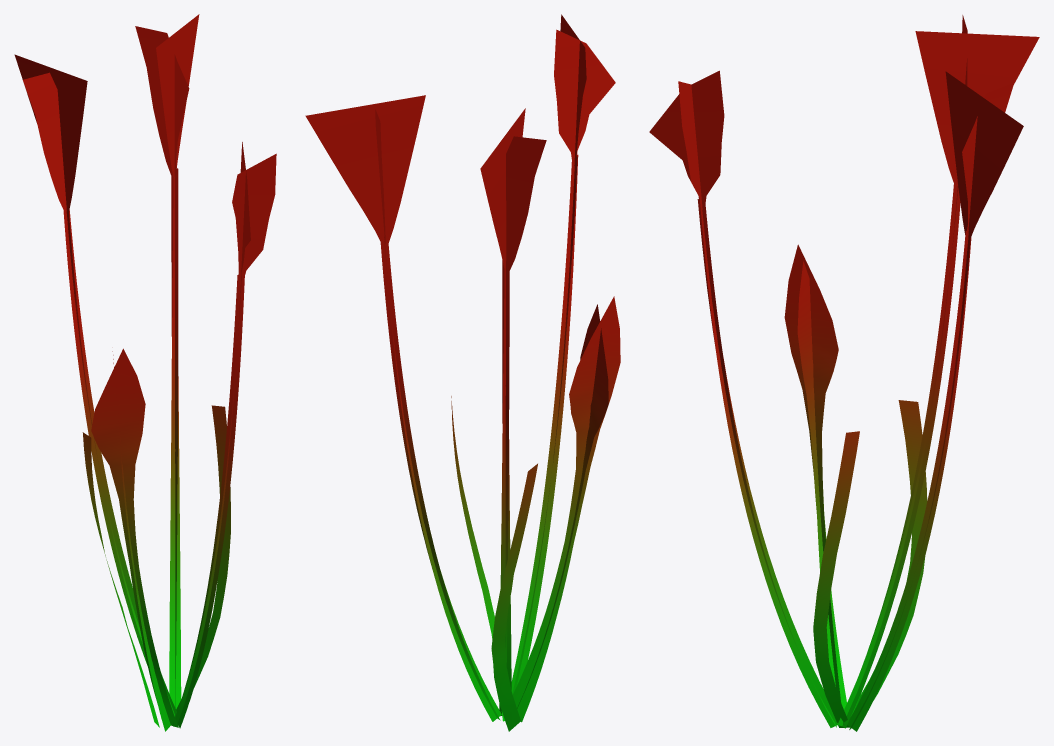
File: Carnation Weed_LOD0_Var3_smdpecor.fbx
The picture shows the model from 3 angles, left to right: view 1: azimuth 30°, elevation 25°; view 2: azimuth 150°, elevation 25°; view 3: azimuth 270°, elevation 25°; orthographic projection. The views are drawn at different scales.
Parts seen in each view (by area): view 1: _f3ac_Var3_LOD0; view 2: _f3ac_Var3_LOD0; view 3: _f3ac_Var3_LOD0.
Boxes of the visible parts, x1,y1,x2,y2 form: _f3ac_Var3_LOD0: [14, 14, 276, 731]; _f3ac_Var3_LOD0: [305, 14, 620, 731]; _f3ac_Var3_LOD0: [649, 15, 1039, 731].
Size of the model in its own units: 8.26 by 24.58 by 12.82.
